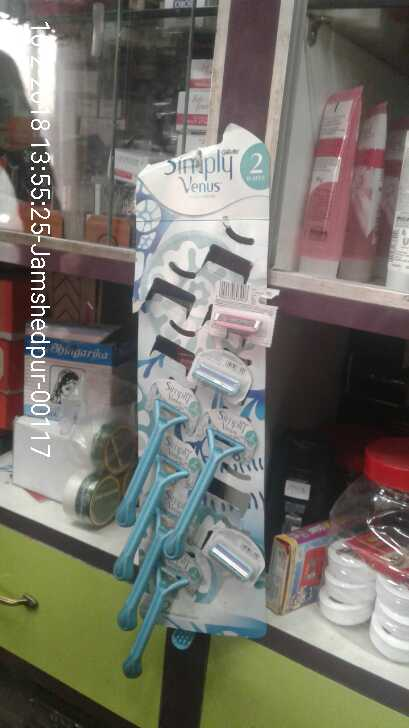reject: (126, 253, 307, 376)
